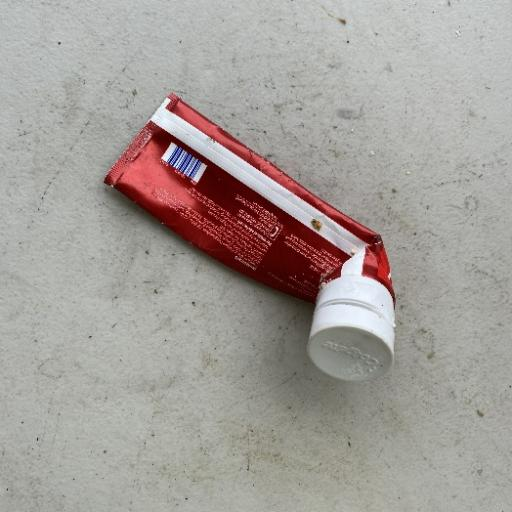Plastic: (102, 90, 400, 384)
